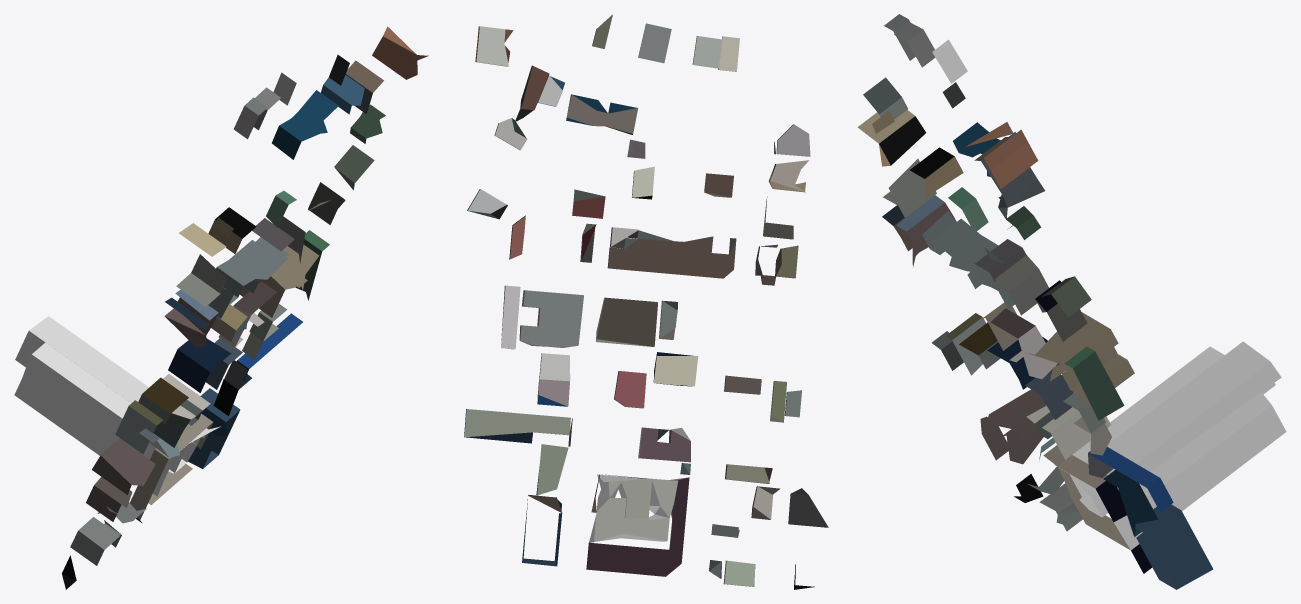
3 views of the same model, side by side, from view 1: azimuth 30°, elevation 25°; view 2: azimuth 150°, elevation 25°; view 3: azimuth 270°, elevation 25° (orthographic). The views are drawn at different scales.
Bounding box in the file's own units: 155 × 205 × 141.
